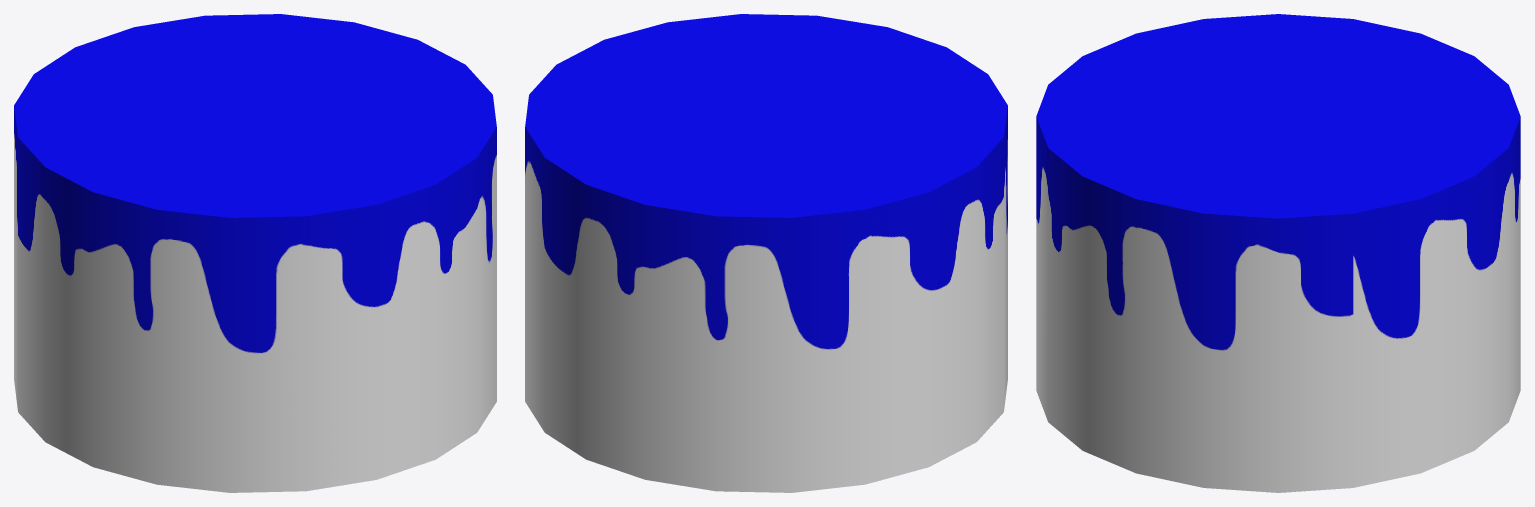
Rendered from BlueSmall.fbx.
3 views of the same model, side by side, from view 1: azimuth 30°, elevation 25°; view 2: azimuth 150°, elevation 25°; view 3: azimuth 270°, elevation 25° (orthographic).
Parts seen in each view (by area): view 1: BlueSmall; view 2: BlueSmall; view 3: BlueSmall.
Boxes of the visible parts, x1,y1,x2,y2 form: BlueSmall: [14, 14, 496, 492]; BlueSmall: [525, 14, 1007, 492]; BlueSmall: [1036, 14, 1520, 492].
Bounding box in the file's own units: 400 × 250 × 400.
